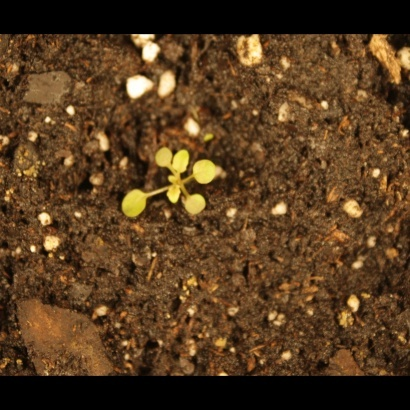leaf: (117, 187, 155, 220), (193, 155, 225, 187), (169, 147, 192, 176), (183, 192, 210, 216), (154, 146, 177, 169), (164, 183, 187, 206)
